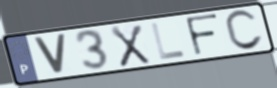3: (76, 28, 110, 73)
C: (222, 8, 265, 53)
F: (183, 12, 221, 58)
L: (149, 21, 188, 62)
V: (31, 33, 69, 76)
X: (108, 23, 152, 69)
